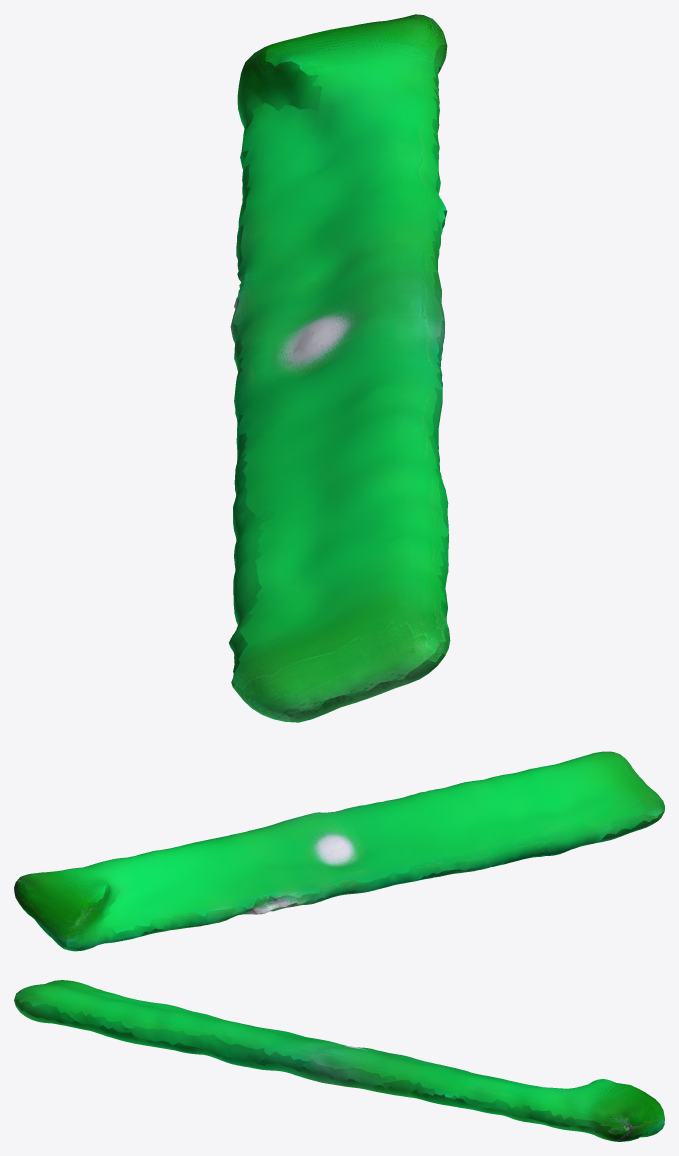
The model's file is 1_toy.glb.
3 renders of one model, top to bottom at view 1: azimuth 30°, elevation 25°; view 2: azimuth 150°, elevation 25°; view 3: azimuth 270°, elevation 25°, orthographic. The views are drawn at different scales.
Visible parts, largest first — view 1: 1_toy.obj; view 2: 1_toy.obj; view 3: 1_toy.obj.
Boxes of the visible parts, bbox=[...] form: 1_toy.obj: bbox=[229, 14, 450, 722]; 1_toy.obj: bbox=[14, 751, 664, 951]; 1_toy.obj: bbox=[14, 980, 664, 1141].
Size of the model in its own units: 0.334 by 0.0621 by 0.4986.
1 material, 1 textured.
